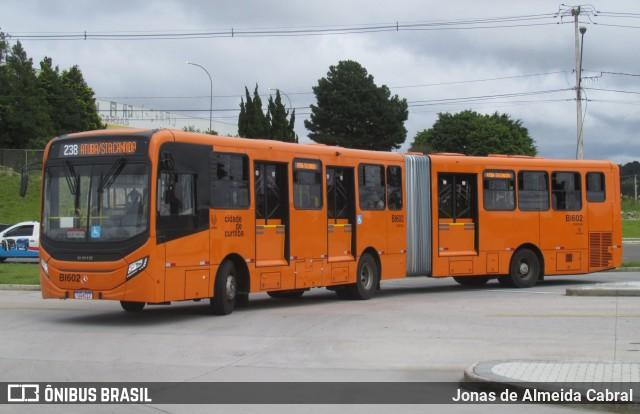ATUBA STACANDIDA: (78, 140, 141, 158)
